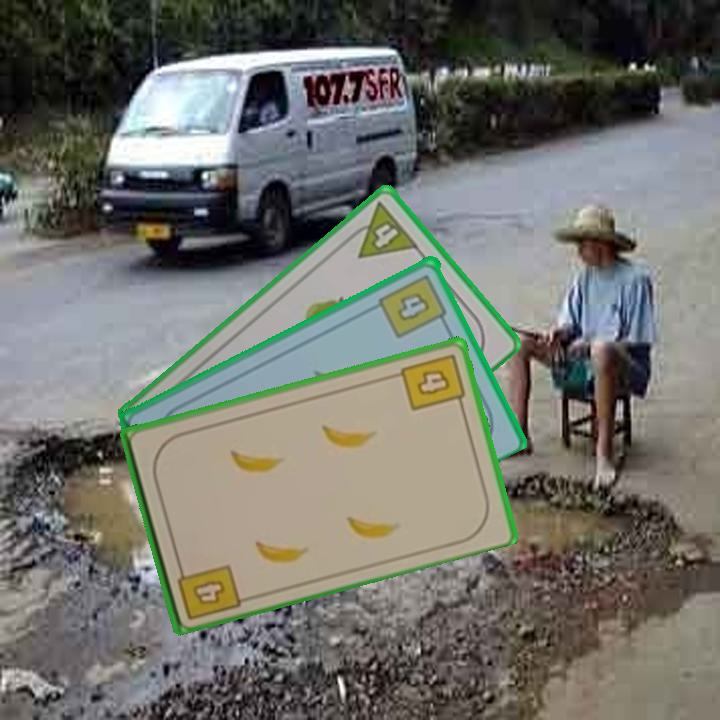4b: (375, 270, 451, 341), (173, 558, 243, 623), (397, 350, 468, 413)
4p: (341, 198, 421, 261)
